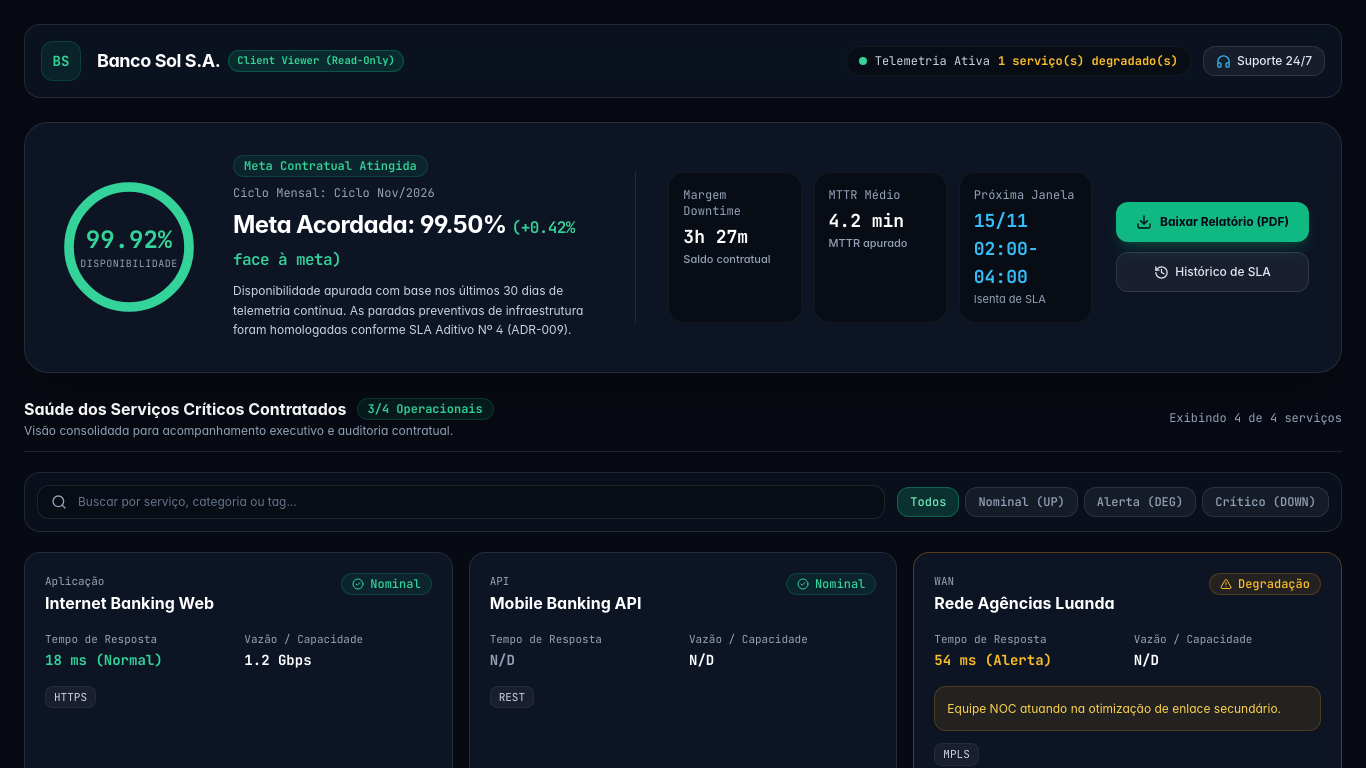
Test case: Portal do Cliente Sanitizado & Relatórios de SLA (Issue #31) › 4. Exportação de Relatório Executivo em PDF › deve buscar o relatório oficial e exportar o PDF apenas com dados reais
Click the button with test id "download-pdf-btn": (1212, 222) [1116, 202, 1309, 242]
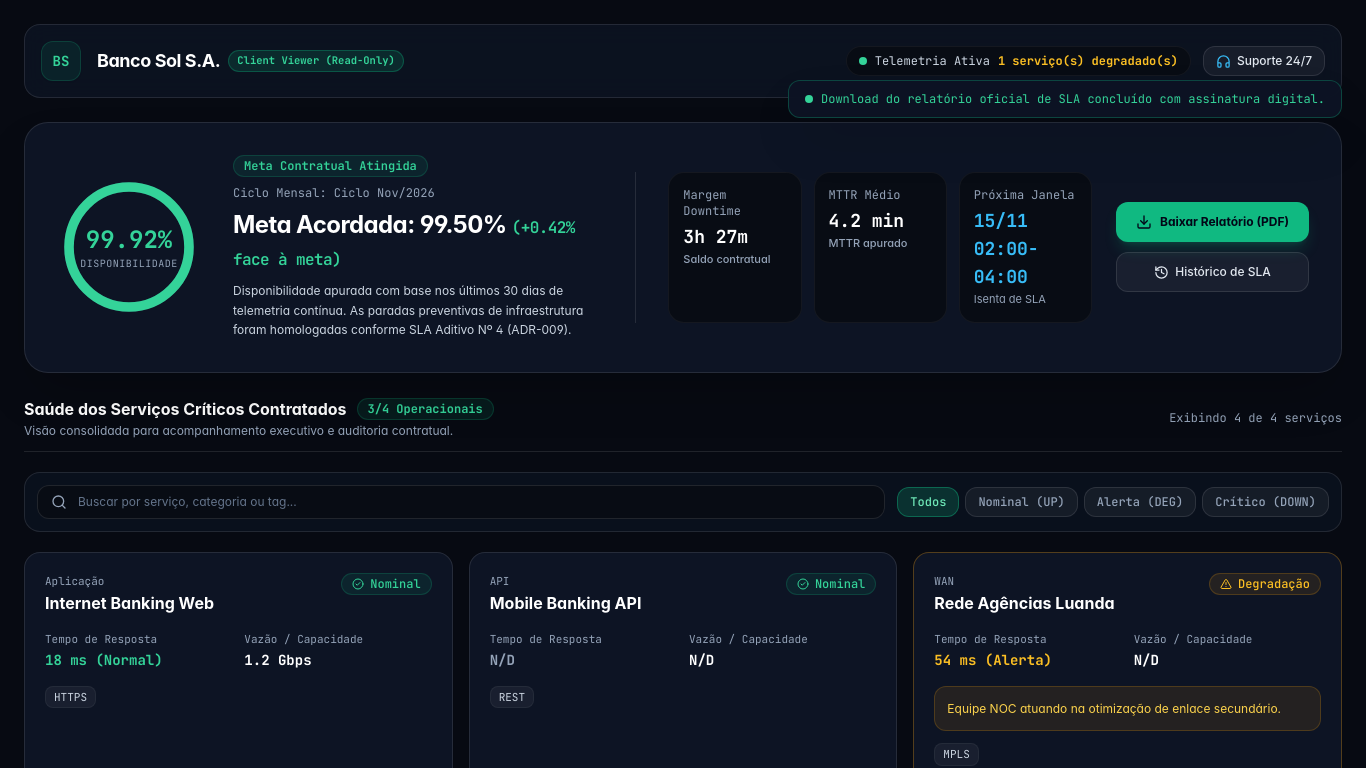
Expected: the text "Download do relatório oficial de SLA concluído" is shown, [821, 91, 1325, 107]
